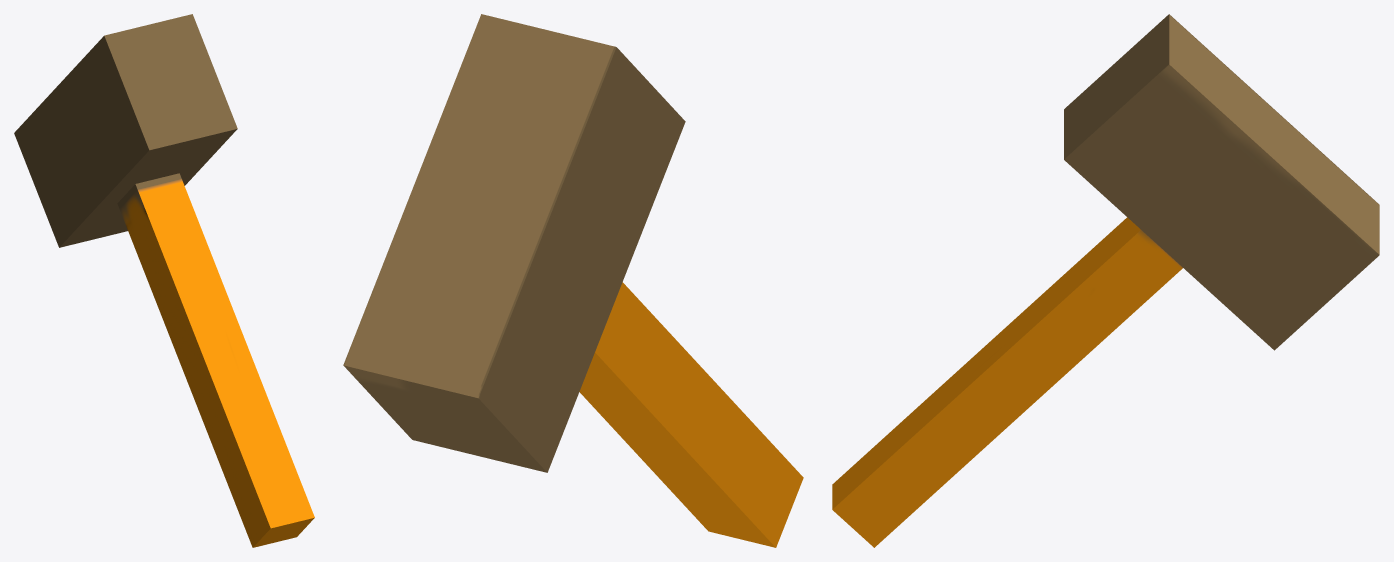
File: Hammer.glb
3 renders of one model, left to right at view 1: azimuth 30°, elevation 25°; view 2: azimuth 150°, elevation 25°; view 3: azimuth 270°, elevation 25°, orthographic. The views are drawn at different scales.
Parts seen in each view (by area): view 1: Cube; view 2: Cube; view 3: Cube.
Boxes of the visible parts, x1,y1,x2,y2 form: Cube: (14,14,314,547); Cube: (343,14,803,547); Cube: (832,14,1379,547).
Size of the model in its own units: 0.4 by 1.84 by 1.84.
1 material, 1 textured.
